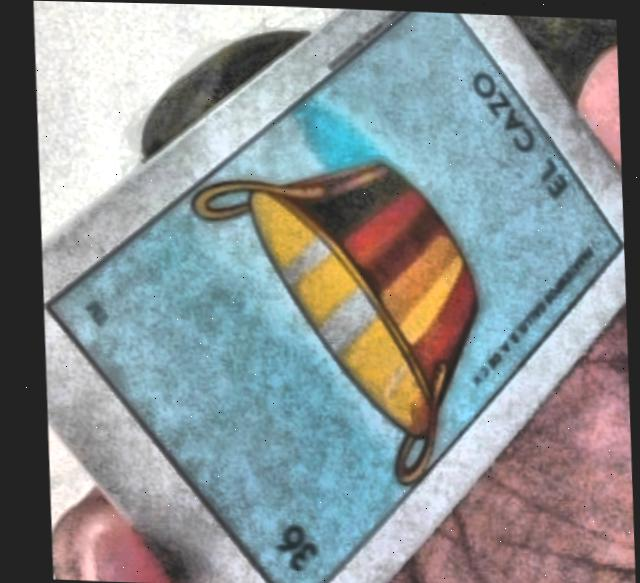El Cazo: (44, 9, 621, 583)
